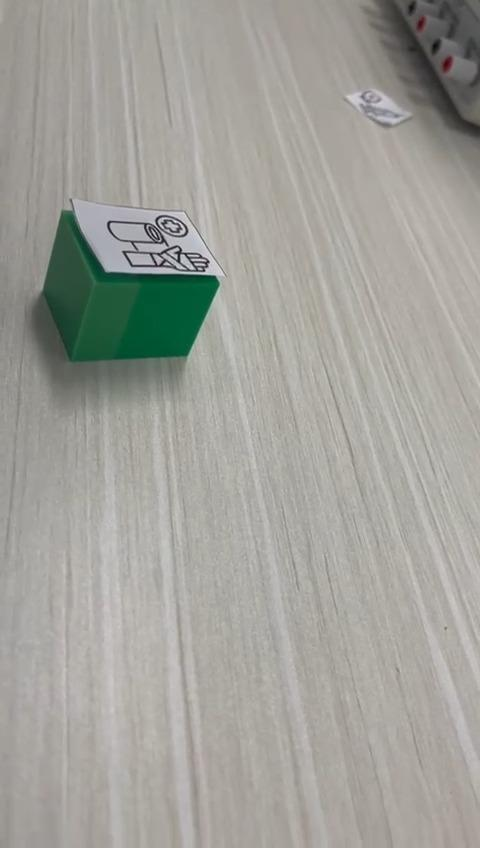Bandages: (45, 197, 227, 362)
